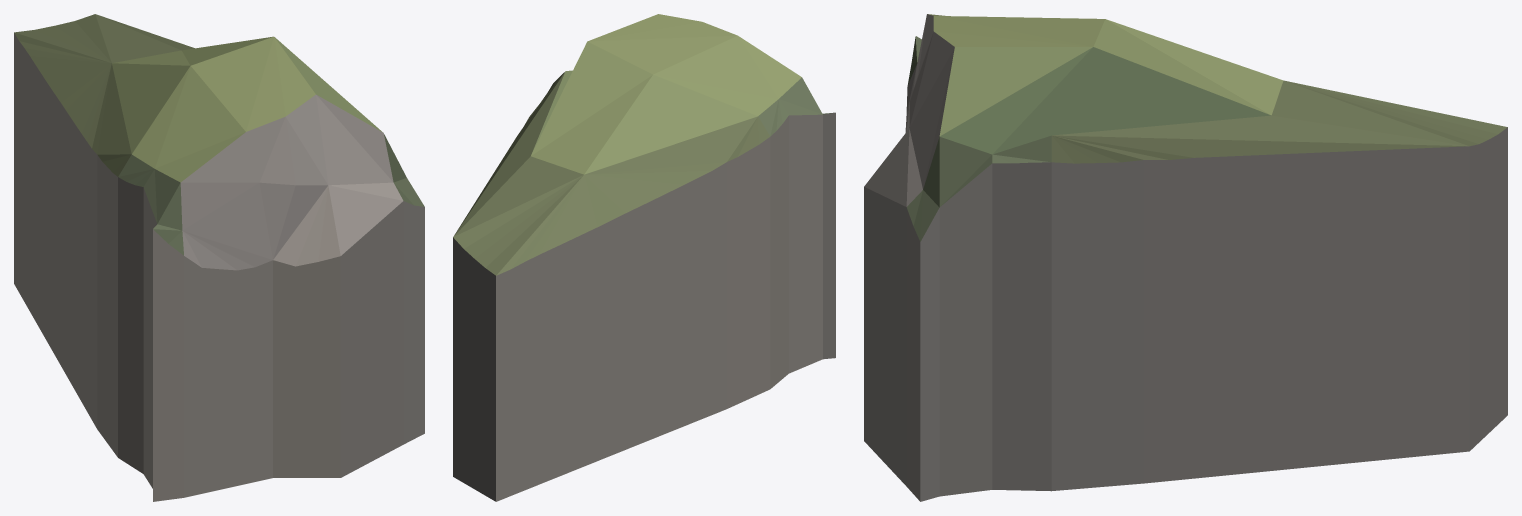
File: cliff_front_columns.glb
3 renders of one model, left to right at view 1: azimuth 30°, elevation 25°; view 2: azimuth 150°, elevation 25°; view 3: azimuth 270°, elevation 25°, orthographic. The views are drawn at different scales.
Visible parts, largest first — view 1: cliff_front_columns; view 2: cliff_front_columns; view 3: cliff_front_columns.
Part boxes in pixels (<box>): cliff_front_columns: <box>14,14,424,501</box>; cliff_front_columns: <box>453,14,835,501</box>; cliff_front_columns: <box>864,14,1507,501</box>.
Size of the model in its own units: 54.99 by 69.04 by 97.56.
